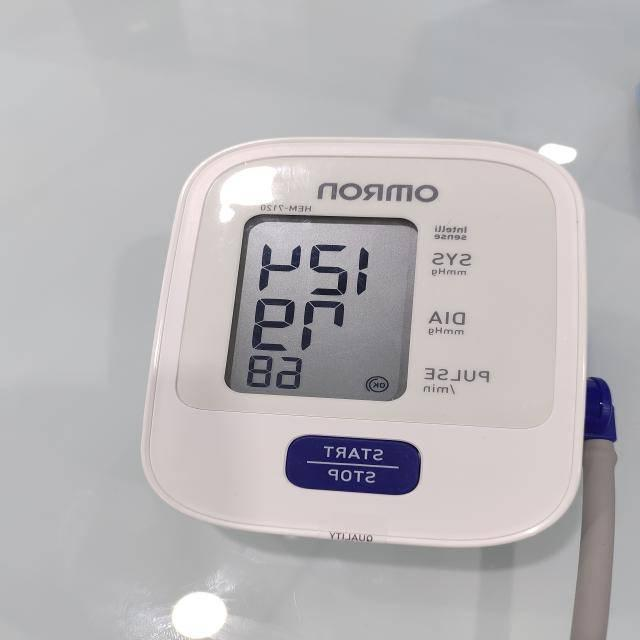bp: (138, 138, 589, 552)
